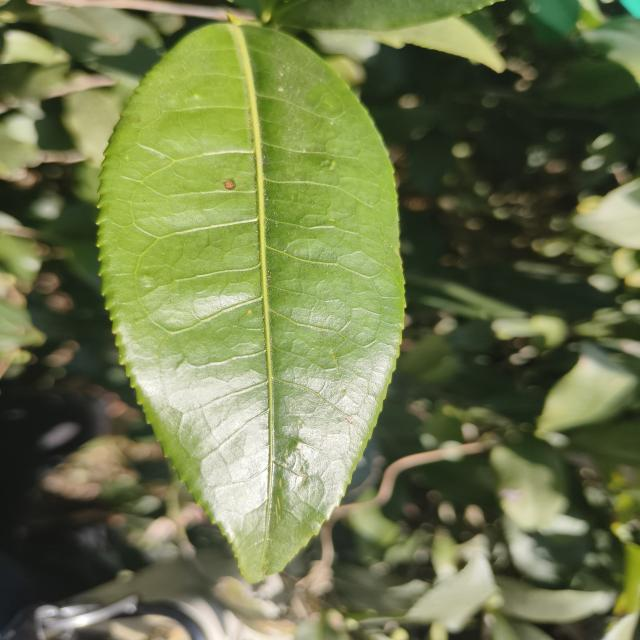Leaf: (99, 24, 404, 581), (536, 342, 637, 436), (490, 438, 569, 532), (62, 89, 122, 169)
